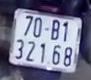0: (33, 14, 44, 39)
1: (40, 41, 48, 66), (61, 20, 69, 43)
2: (26, 38, 36, 64)
3: (13, 38, 25, 61)
6: (52, 44, 62, 67)
7: (24, 13, 33, 39)
8: (63, 45, 74, 70)
B: (51, 17, 61, 43)
